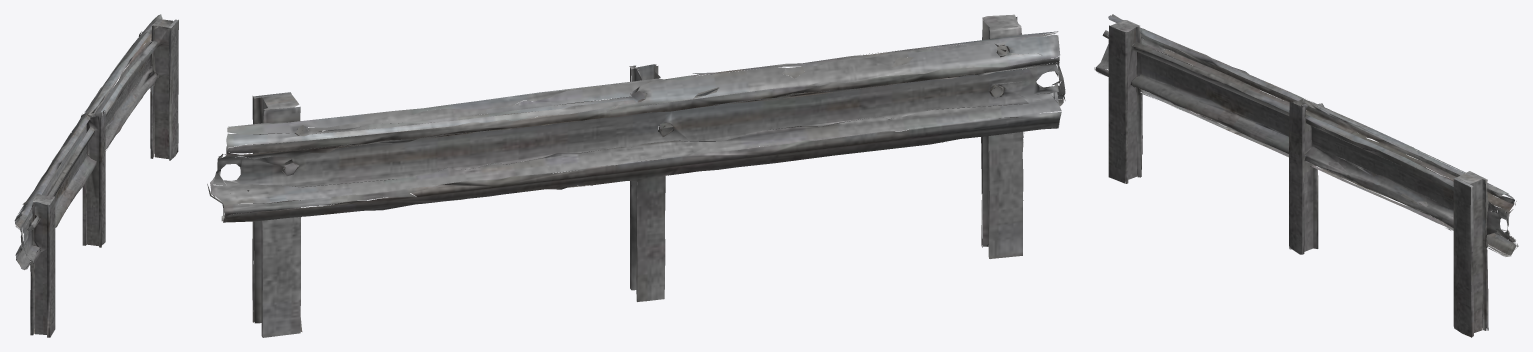
Rendered from kueste_leitplanke.glb.
3 renders of one model, left to right at view 1: azimuth 30°, elevation 25°; view 2: azimuth 150°, elevation 25°; view 3: azimuth 270°, elevation 25°, orthographic. The views are drawn at different scales.
Visible parts, largest first — view 1: Prop; view 2: Prop; view 3: Prop.
Part boxes in pixels (left/top/right/bottom): Prop: left=14, top=14, right=178, bottom=337; Prop: left=207, top=14, right=1065, bottom=337; Prop: left=1094, top=14, right=1518, bottom=337.
Size of the model in its own units: 2.54 by 1 by 2.5.
Materials: 1 (1 with a texture image).
